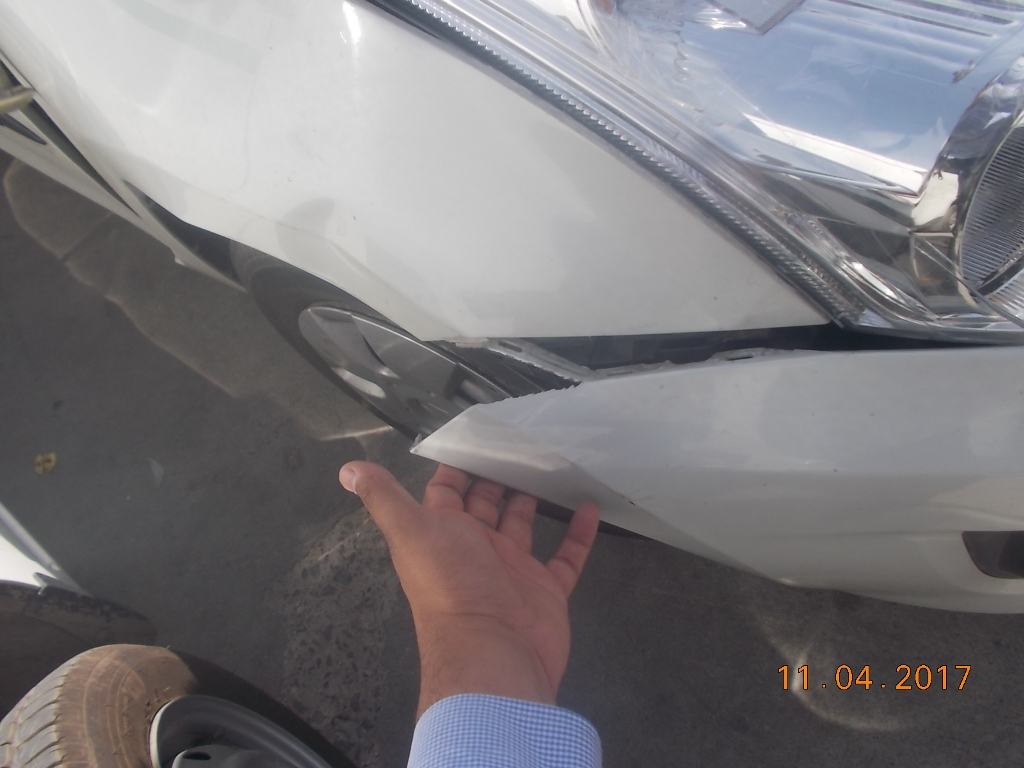Dislocation: (393, 278, 853, 475)
